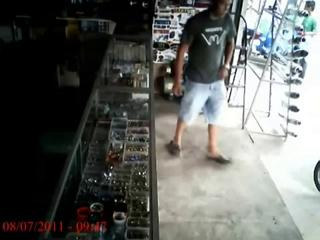Normal: (302, 1, 318, 33)
shoplifting: (166, 0, 237, 164)
